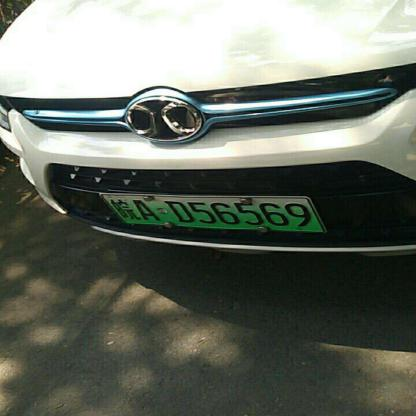lp: (100, 193, 324, 230)
